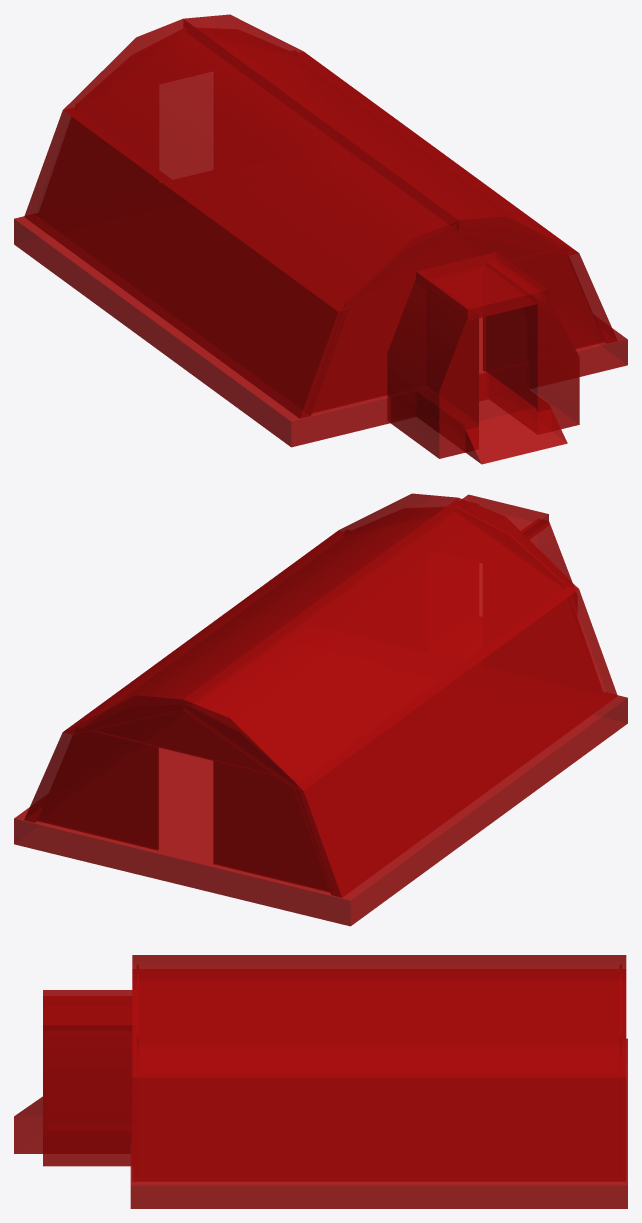
File: SM_Bld_Tent_Sandbags_01_Collision.fbx
The picture shows the model from 3 angles, top to bottom: view 1: azimuth 30°, elevation 25°; view 2: azimuth 150°, elevation 25°; view 3: azimuth 270°, elevation 25°; orthographic projection. The views are drawn at different scales.
Visible parts, largest first — view 1: SM_Bld_Tent_Sandbags_01_Collision; view 2: SM_Bld_Tent_Sandbags_01_Collision; view 3: SM_Bld_Tent_Sandbags_01_Collision.
Part boxes in pixels (x1,y1,x2,y2): SM_Bld_Tent_Sandbags_01_Collision: (14, 14, 627, 464); SM_Bld_Tent_Sandbags_01_Collision: (14, 493, 627, 926); SM_Bld_Tent_Sandbags_01_Collision: (14, 955, 627, 1208).
Size of the model in its own units: 768 by 404 by 1353.
